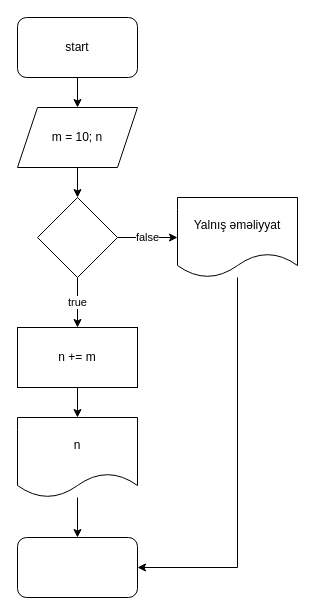
Image size: 315x615. Some labels were removed from this diagram. Here are the shapes that lost their labels. From the top down, the centre of each, then its label:
At (x=77, y=237): "n % 2 != 0".
At (x=77, y=567): "end".
